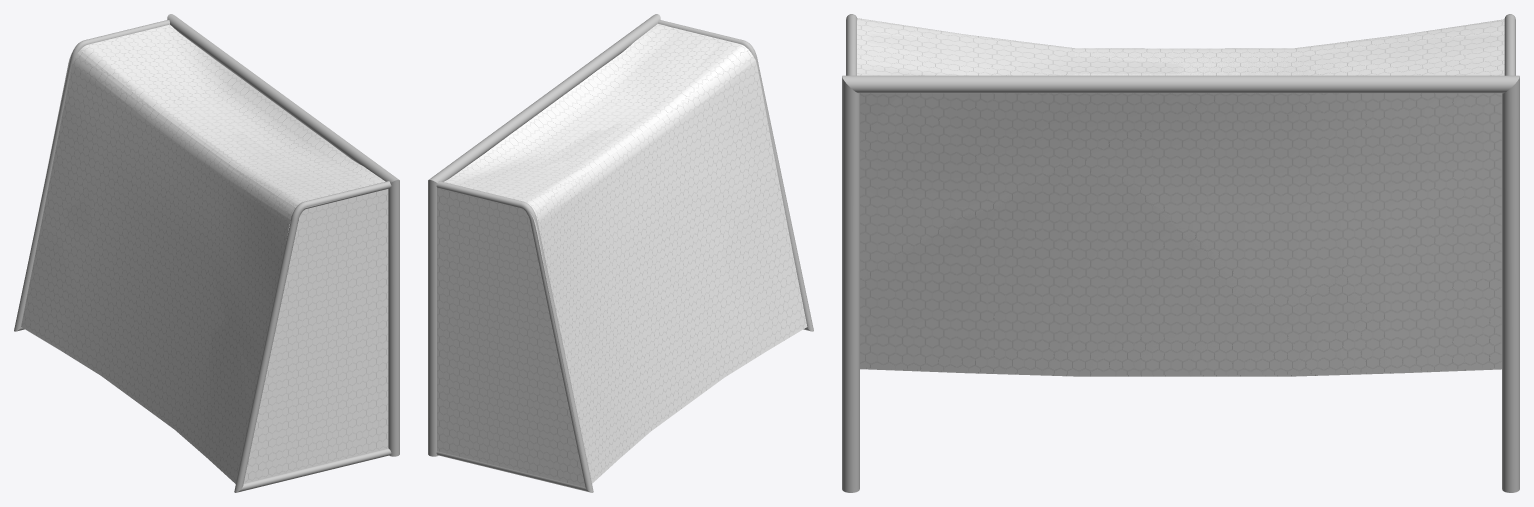
File: SportGates01.FBX
The picture shows the model from 3 angles, left to right: view 1: azimuth 30°, elevation 25°; view 2: azimuth 150°, elevation 25°; view 3: azimuth 270°, elevation 25°; orthographic projection. The views are drawn at different scales.
Visible parts, largest first — view 1: SportGates1_LOD0, SportGates1_PhyFence; view 2: SportGates1_LOD0, SportGates1_PhyFence; view 3: SportGates1_LOD0, SportGates1_PhyFence.
Boxes of the visible parts, x1,y1,x2,y2 form: SportGates1_LOD0: (14, 14, 399, 492); SportGates1_PhyFence: (21, 28, 358, 481); SportGates1_LOD0: (428, 14, 813, 492); SportGates1_PhyFence: (457, 30, 806, 483); SportGates1_LOD0: (842, 14, 1519, 492); SportGates1_PhyFence: (857, 18, 1504, 376).
Size of what is drawn, in the model's own units: 1246 by 2004 by 2982.
